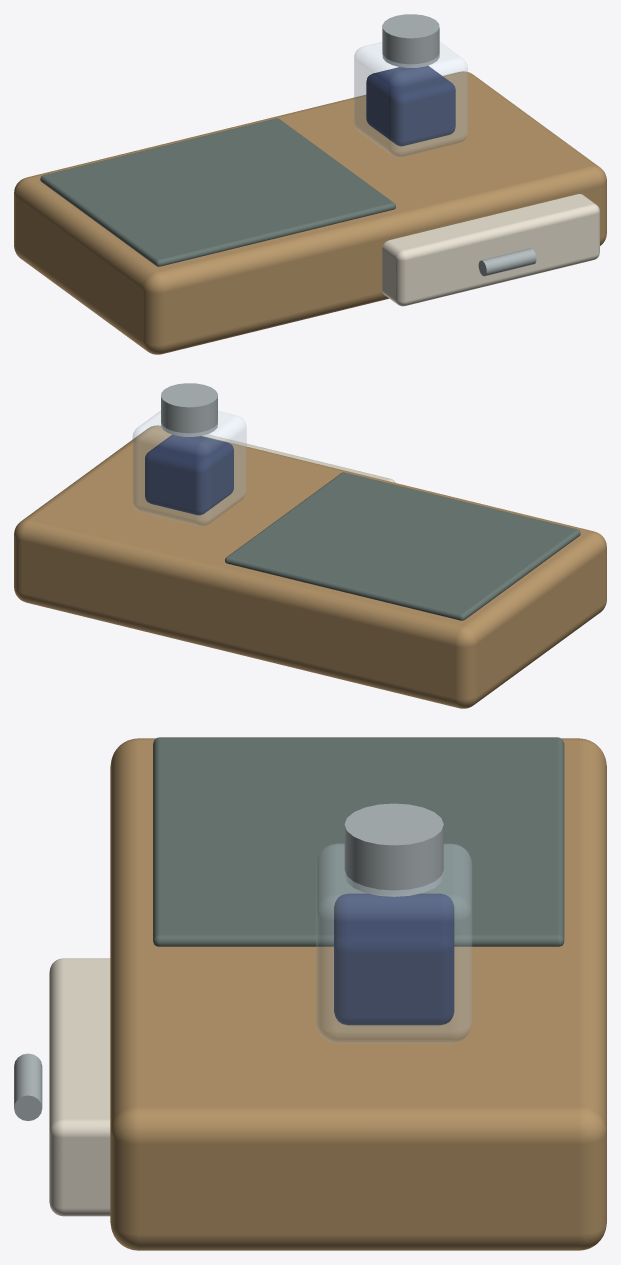
File: atelier-decor-valet-nordic.glb
3 renders of one model, top to bottom at view 1: azimuth 30°, elevation 25°; view 2: azimuth 150°, elevation 25°; view 3: azimuth 270°, elevation 25°, orthographic. The views are drawn at different scales.
Size of the model in its own units: 0.26 by 0.104 by 0.1672.
